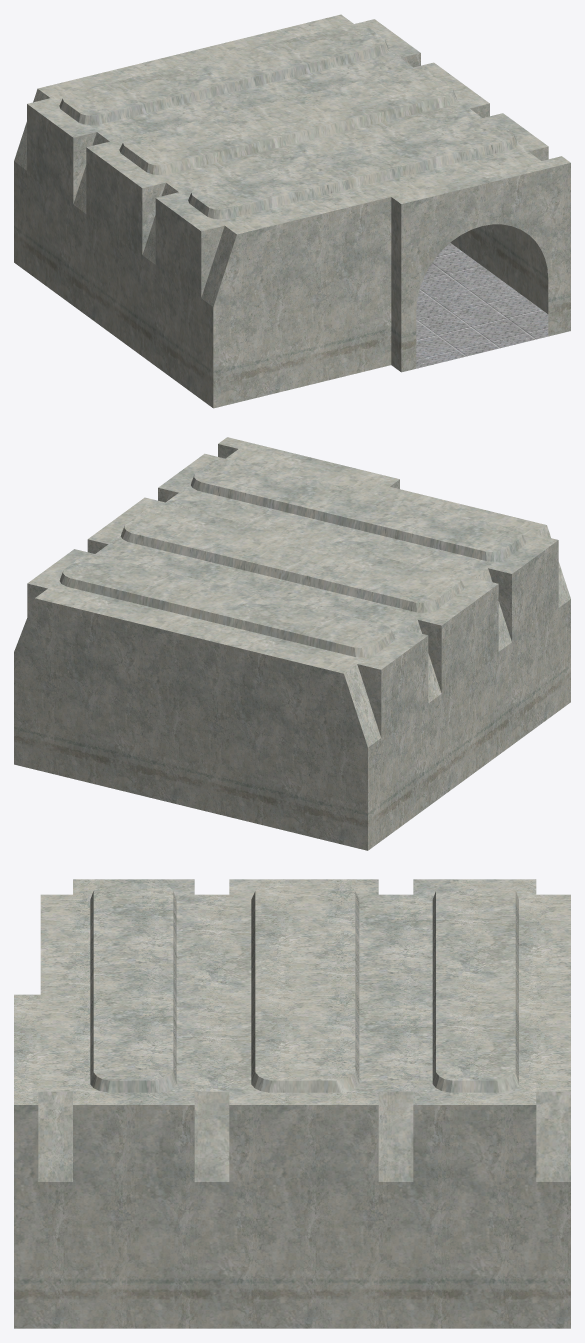
Rendered from thm_all_cantina_r13_private_room2_mesh_r13.fbx.
3 views of the same model, one above another, from view 1: azimuth 30°, elevation 25°; view 2: azimuth 150°, elevation 25°; view 3: azimuth 270°, elevation 25° (orthographic). The views are drawn at different scales.
Visible parts, largest first — view 1: mesh_node; view 2: mesh_node; view 3: mesh_node.
Part boxes in pixels (box(x1,y1,x2,y2)): mesh_node: box(14, 14, 570, 408); mesh_node: box(14, 437, 570, 850); mesh_node: box(14, 879, 570, 1328).
Bounding box in the file's own units: 10 × 4.84 × 10.44.
